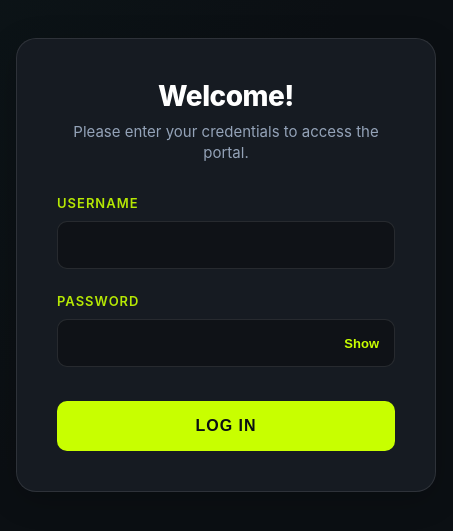
Test: Login › shows error when submitting empty username
Step 1. Click the button "Log in" → x=226, y=426, box [57,401,395,451]
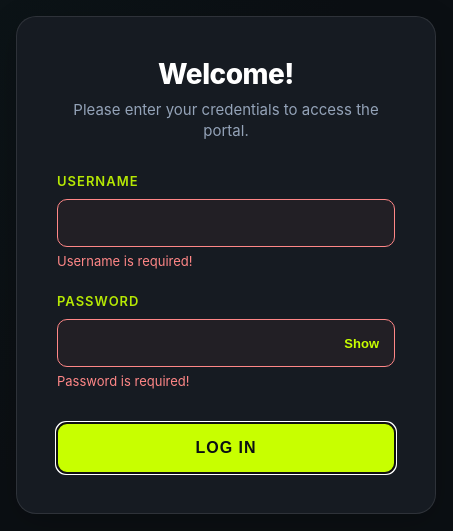
Expected: the text "Username is required!" is shown, [57,253,192,269]
